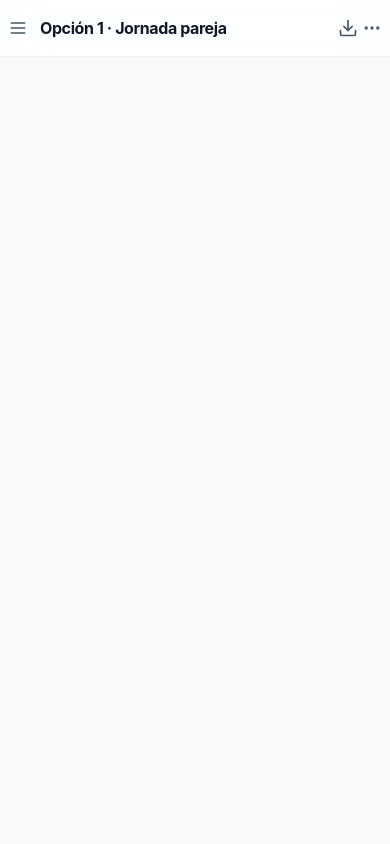
Test: AppHeader mobile actions › distingue entre guardar cambios y guardar una foto
This screenshot has width=390, height=844.
What coordinates should you click on to do the following:
click the button named "Más acciones"
I would click on:
 (372, 28)
Its box is x1=362 y1=18 x2=382 y2=38.
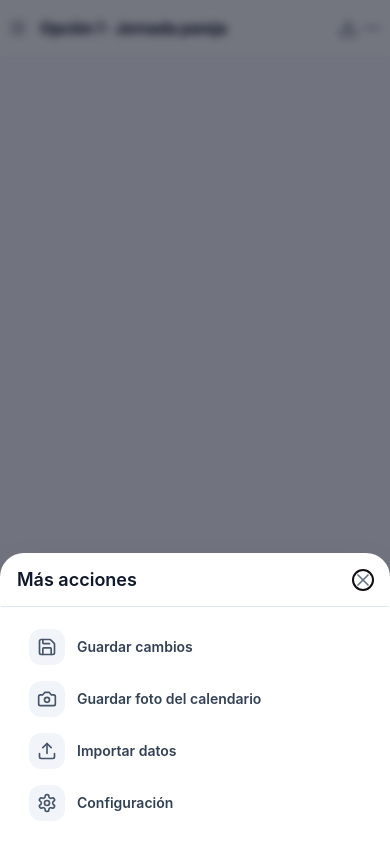
Expected: the text "Guardar cambios" is shown, x1=17 y1=623 x2=373 y2=671
Expected: the text "Guardar foto del calendario" is shown, x1=17 y1=675 x2=373 y2=723
